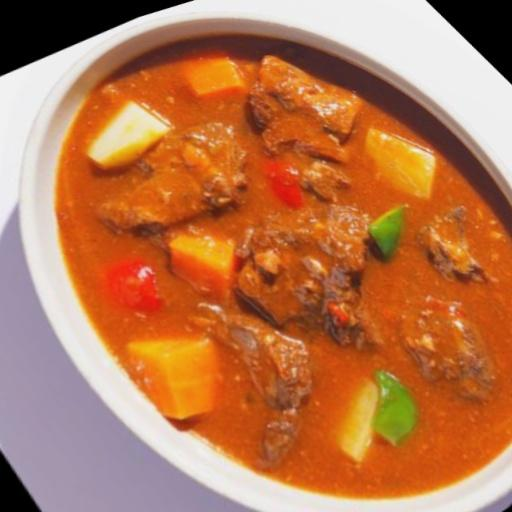pork caldereta: (50, 51, 511, 504)
